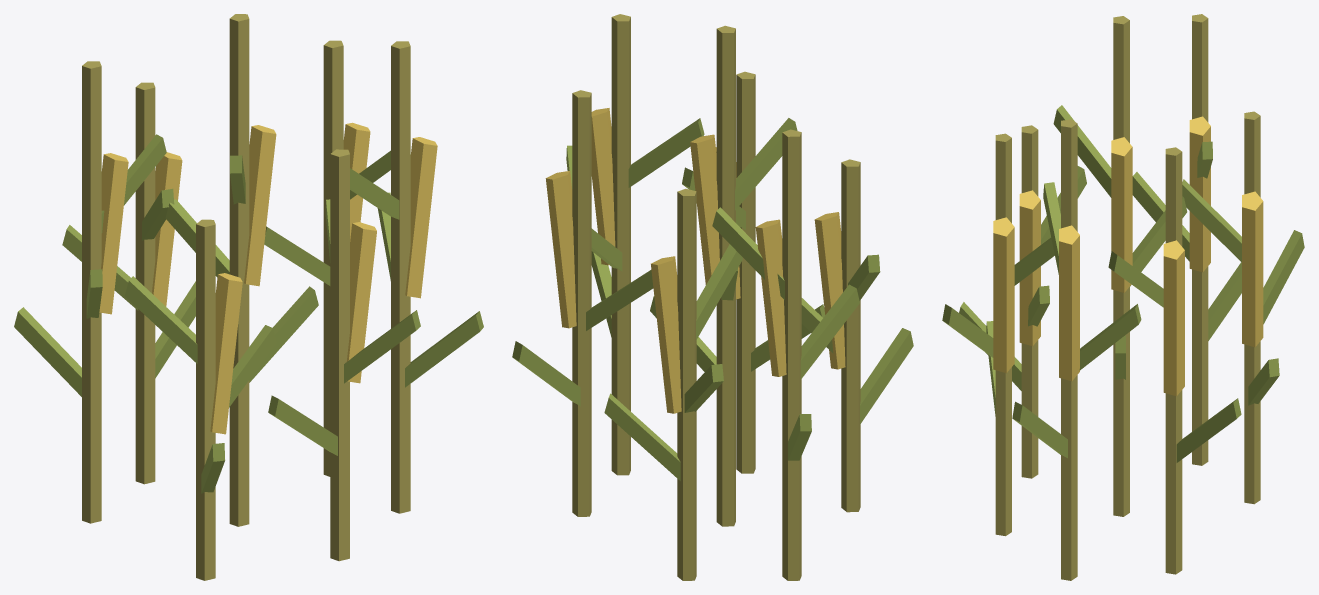
Rendered from corn.glb.
3 renders of one model, left to right at view 1: azimuth 30°, elevation 25°; view 2: azimuth 150°, elevation 25°; view 3: azimuth 270°, elevation 25°, orthographic. The views are drawn at different scales.
Visible parts, largest first — view 1: cylinder; view 2: cylinder; view 3: cylinder.
Boxes of the visible parts, x1,y1,x2,y2 form: cylinder: (14, 14, 483, 580); cylinder: (512, 14, 913, 580); cylinder: (942, 14, 1304, 580).
Size of the model in its own units: 1.3 by 1.8 by 1.2.
